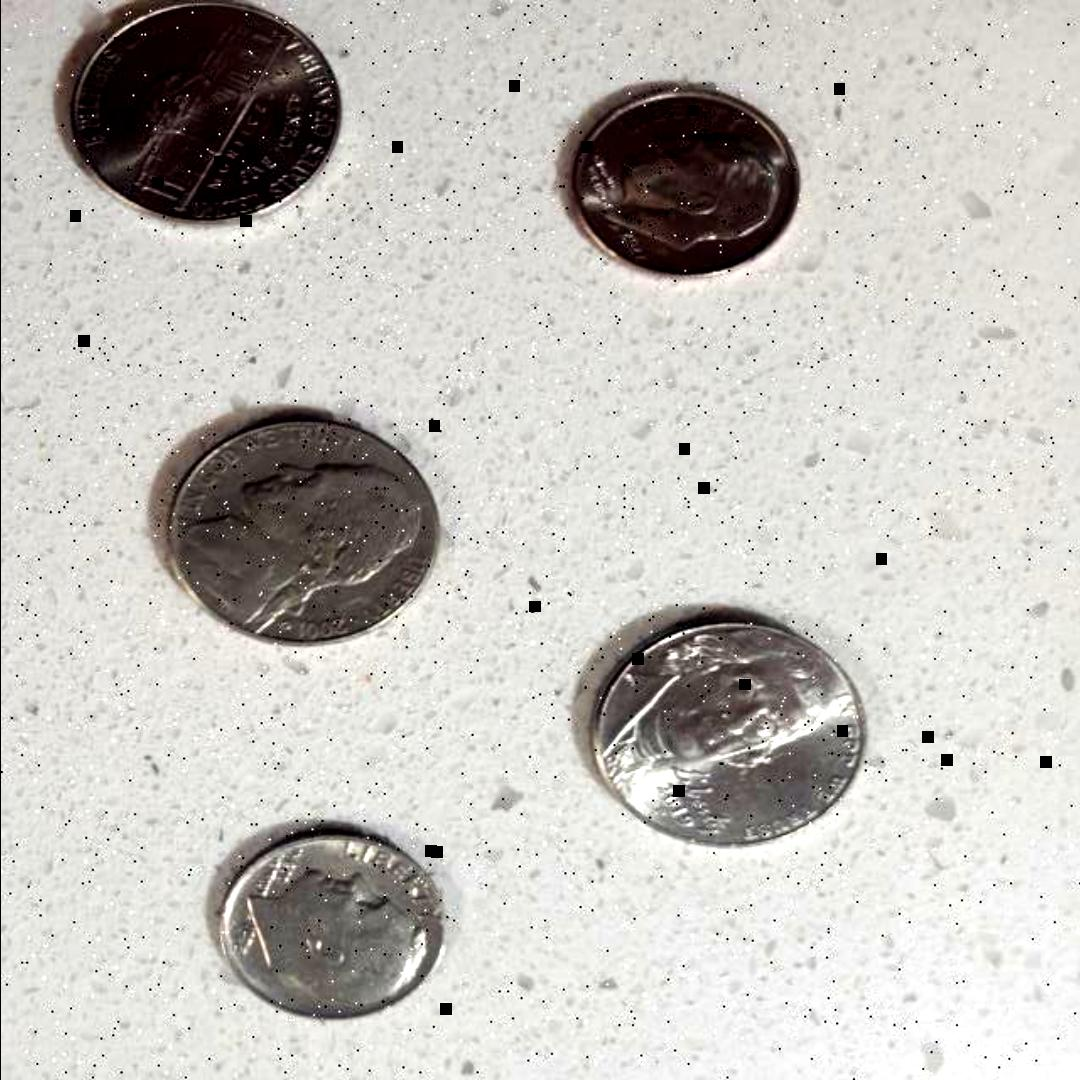Dime: (564, 81, 807, 281), (212, 825, 455, 1025)
Nickel: (157, 404, 455, 658), (579, 601, 877, 854), (56, 4, 346, 230)
